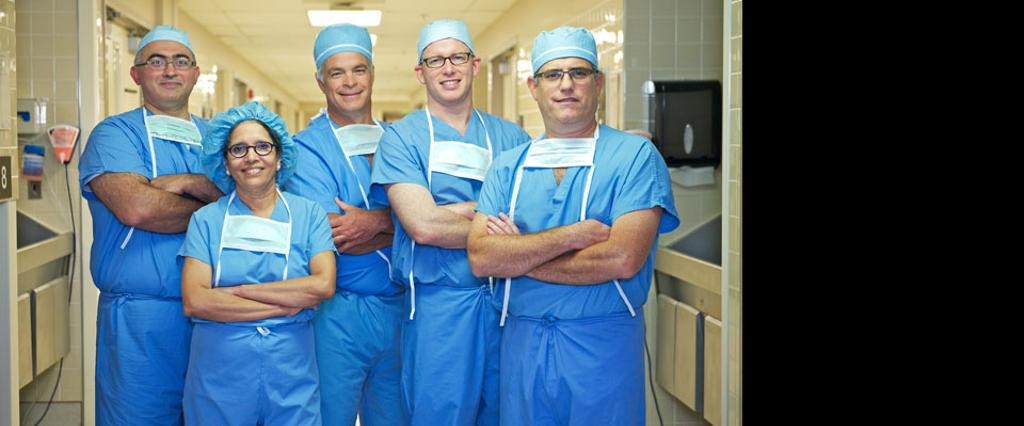face: (537, 48, 595, 123), (138, 37, 193, 105), (421, 36, 472, 102), (228, 119, 276, 188), (321, 46, 370, 110)
